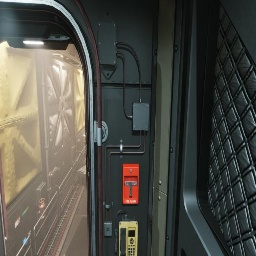EmergencyPhone ,: (115, 210, 138, 256)
FireAlarm ,: (122, 164, 139, 204)
NitrogenTank ,: (38, 198, 48, 240), (84, 138, 86, 157)
